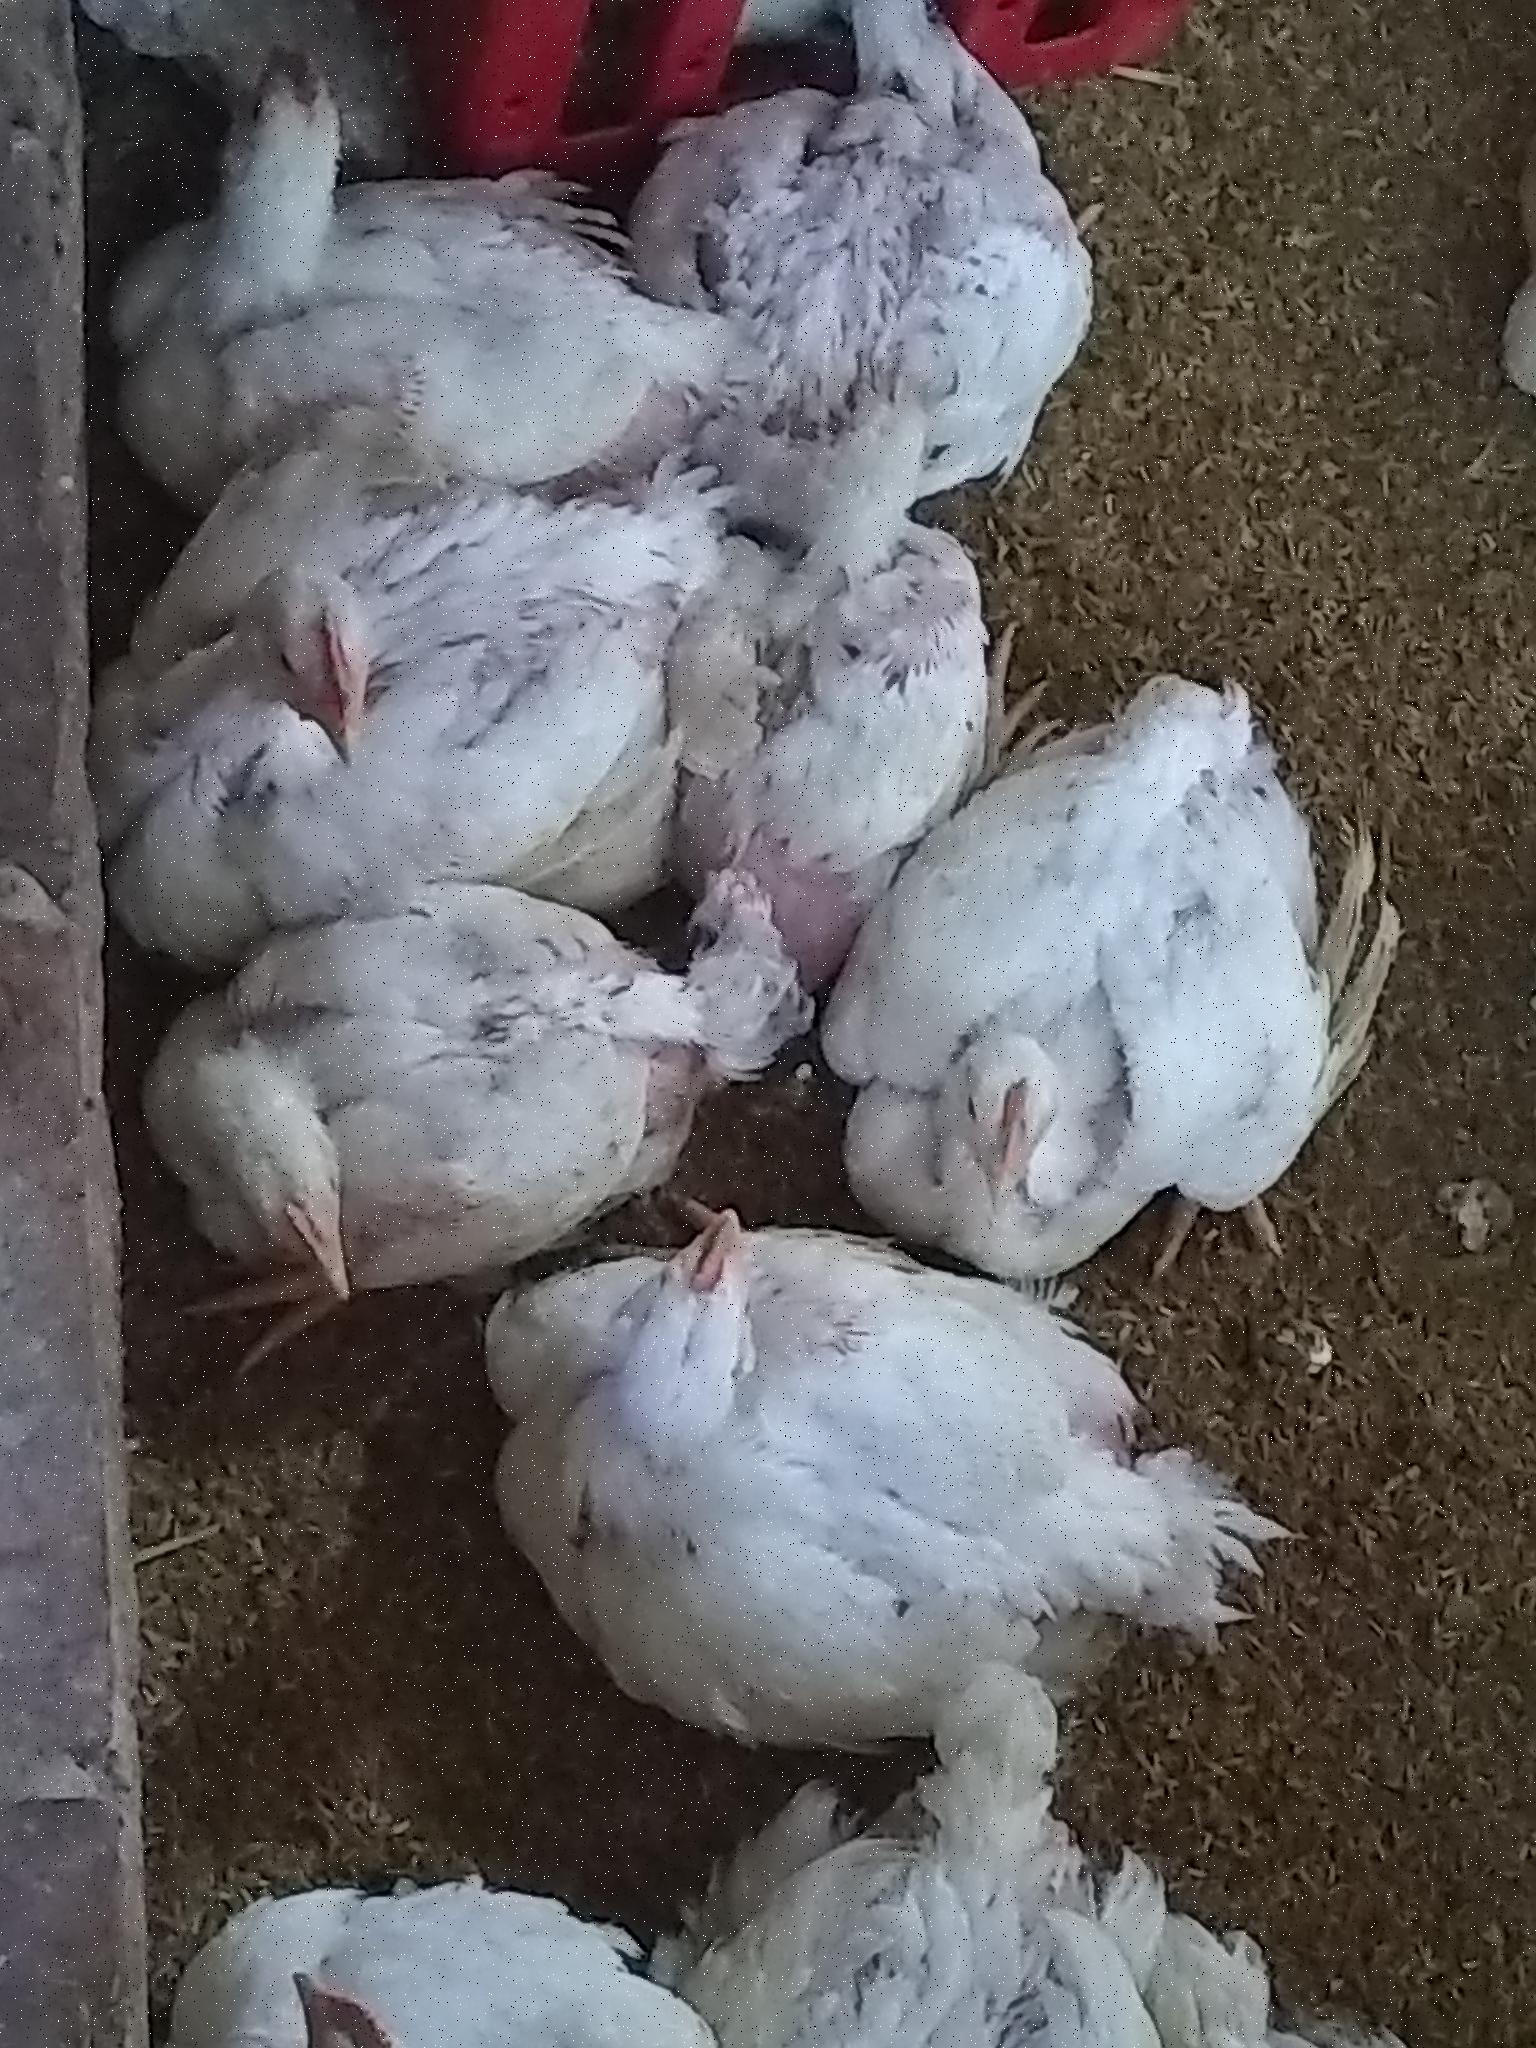Pollos: (521, 1205, 1257, 1756), (908, 724, 1402, 1250), (98, 468, 687, 906), (113, 40, 692, 468), (136, 903, 765, 1293), (702, 2, 1087, 526), (755, 1743, 1312, 2048), (168, 1838, 682, 2048)
